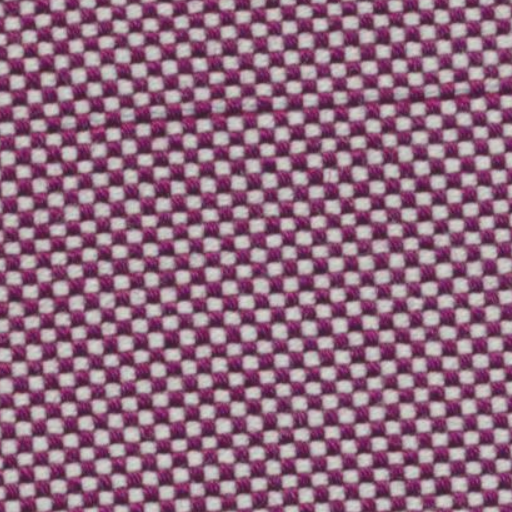TuoSha: (13, 70, 501, 158)
